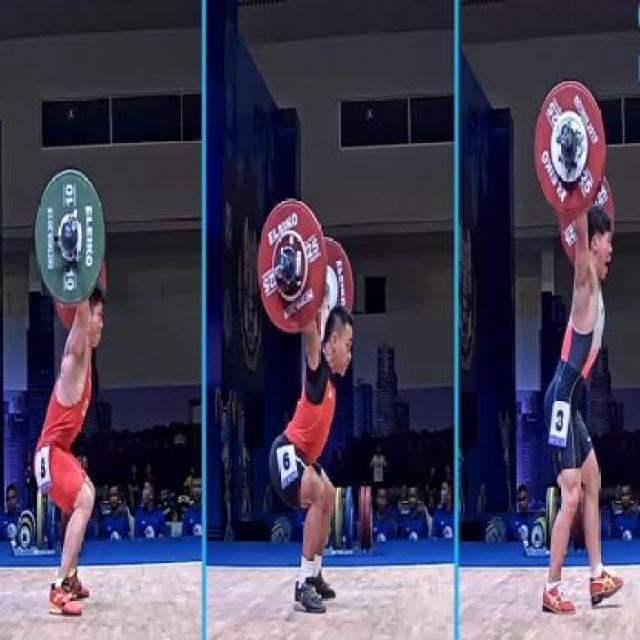Barbell: (559, 117, 573, 146), (62, 216, 75, 242), (276, 250, 289, 275)
